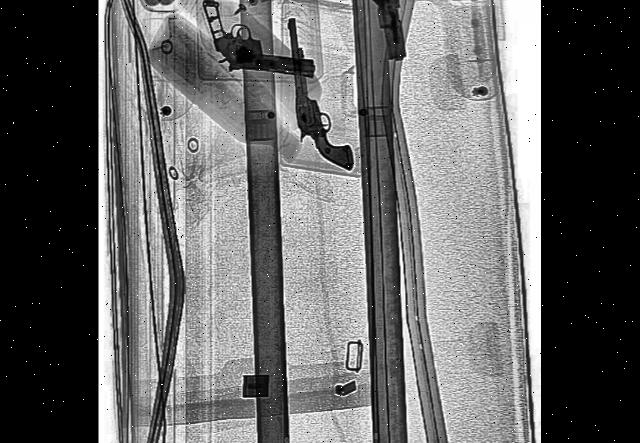Gun: (285, 2, 356, 184), (201, 0, 318, 75), (357, 0, 408, 73)
